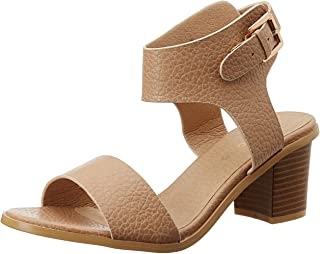shoes: (1, 1, 320, 254)
